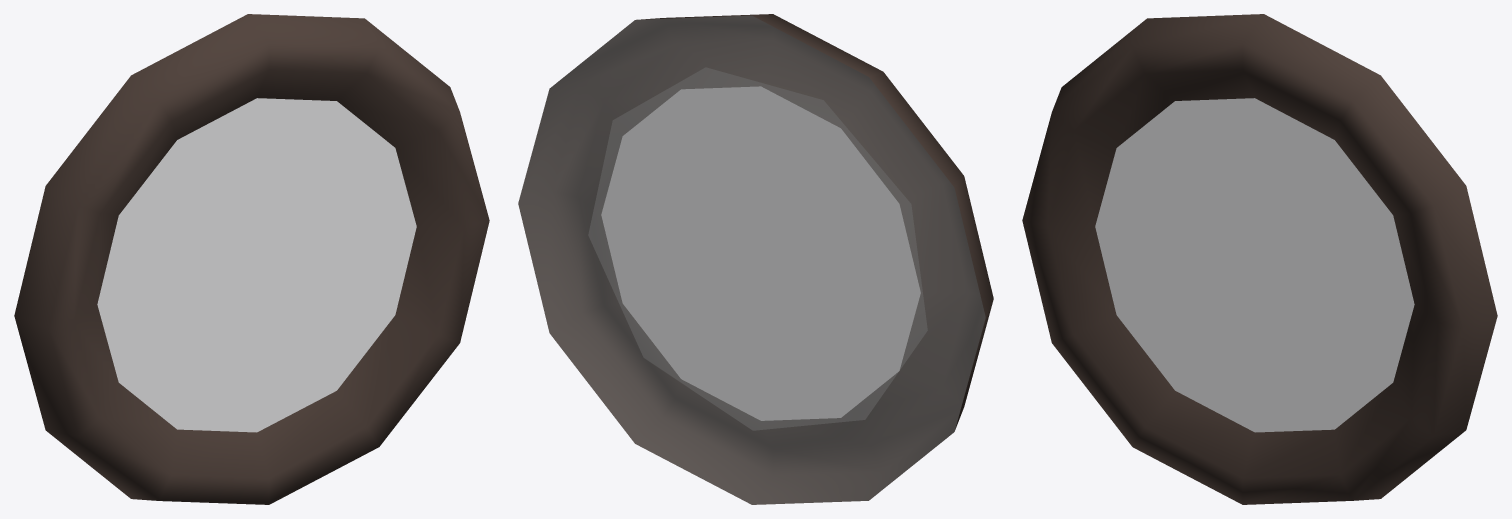
3 views of the same model, side by side, from view 1: azimuth 30°, elevation 25°; view 2: azimuth 150°, elevation 25°; view 3: azimuth 330°, elevation 25° (orthographic).
Parts seen in each view (by area): view 1: prop_025; view 2: prop_025; view 3: prop_025.
Part boxes in pixels (bbox=[...]): prop_025: bbox=[14, 14, 489, 504]; prop_025: bbox=[518, 14, 993, 504]; prop_025: bbox=[1022, 14, 1497, 504].
Size of the model in its own units: 0.5691 by 0.5692 by 0.0448.
